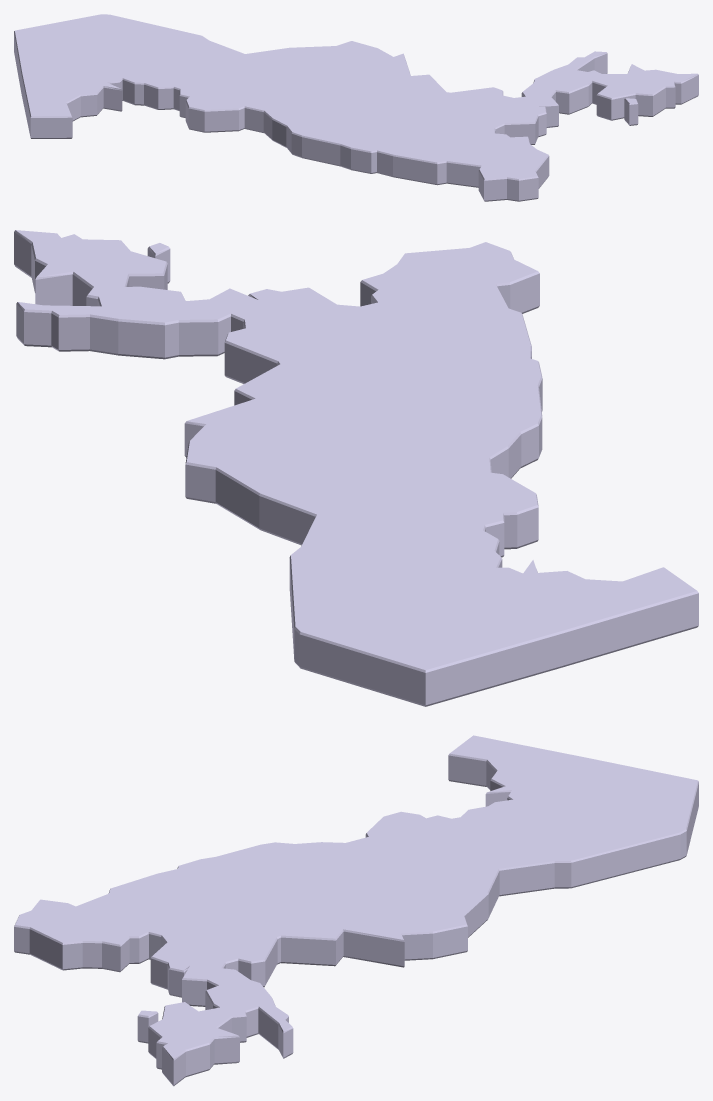
Rendered from UZB.glb.
The picture shows the model from 3 angles, top to bottom: view 1: azimuth 30°, elevation 25°; view 2: azimuth 150°, elevation 25°; view 3: azimuth 270°, elevation 25°; orthographic projection. The views are drawn at different scales.
Bounding box in the file's own units: 1.71 × 0.068 × 1.53.
